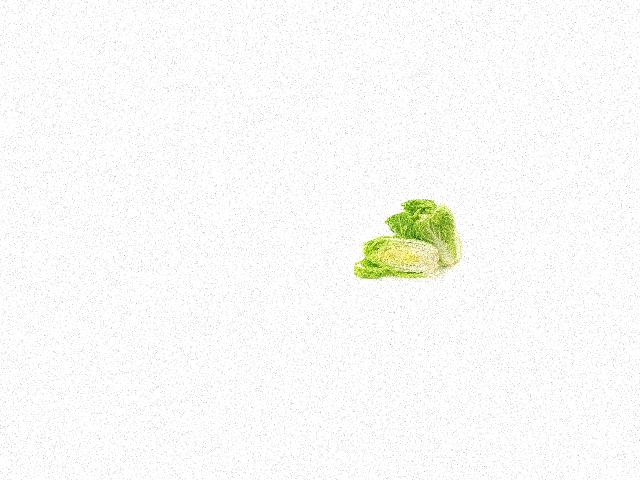lettuce: (380, 195, 464, 271)
